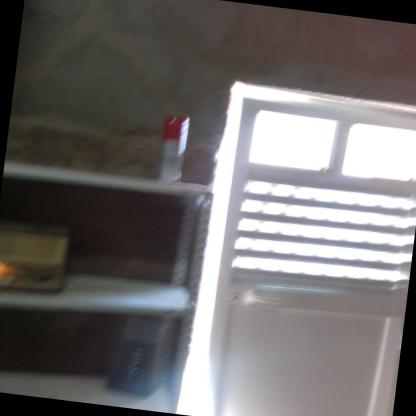closed: (181, 74, 415, 415)
